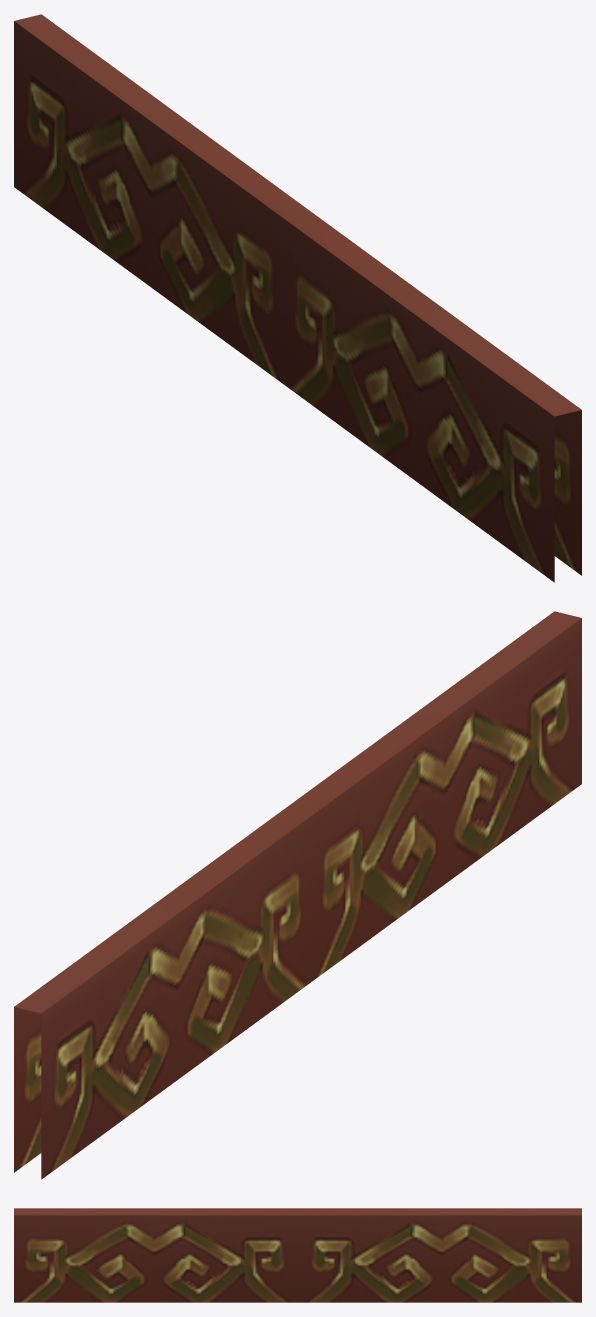
File: FB_gongdain_04.FBX
3 views of the same model, one above another, from view 1: azimuth 30°, elevation 25°; view 2: azimuth 150°, elevation 25°; view 3: azimuth 270°, elevation 25° (orthographic). The views are drawn at different scales.
Visible parts, largest first — view 1: Object08; view 2: Object08; view 3: Object08.
Part boxes in pixels (x1,y1,x2,y2): Object08: (14, 14, 581, 582); Object08: (14, 611, 581, 1179); Object08: (14, 1208, 581, 1302).
Bounding box in the file's own units: 0.1741 × 1 × 5.93.
